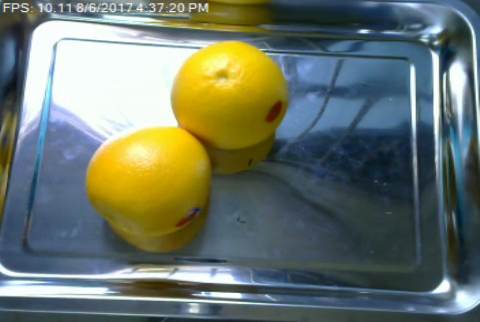Orange: (84, 127, 210, 238), (169, 40, 290, 150)
